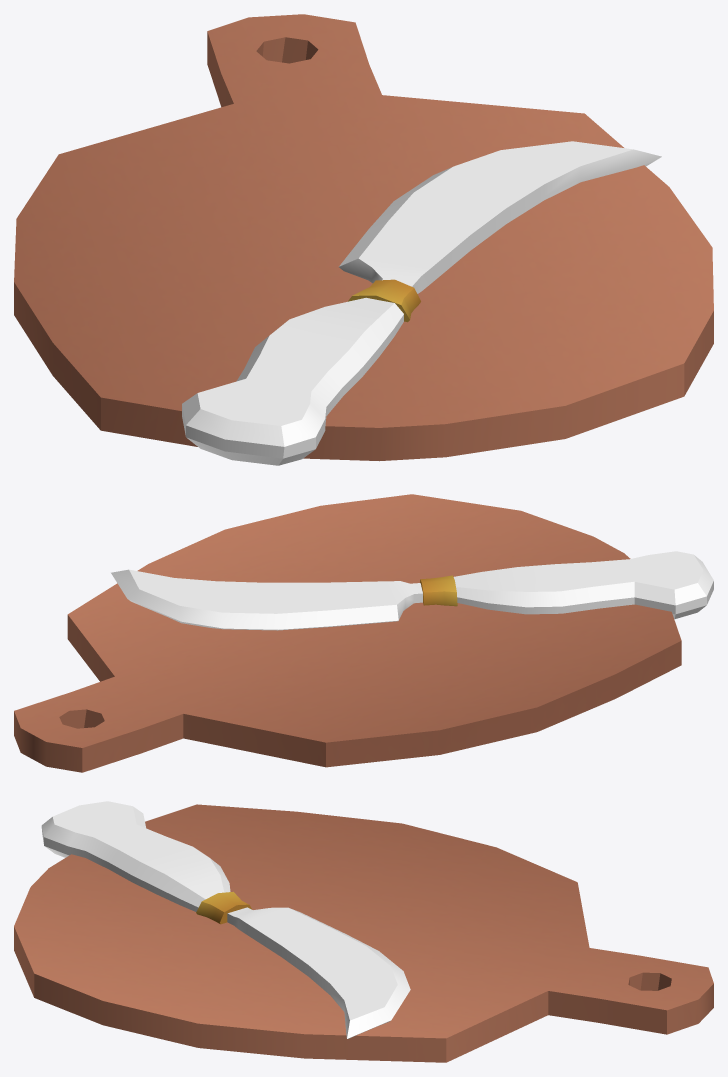
Rendered from TablaParaCortar.fbx.
3 renders of one model, top to bottom at view 1: azimuth 30°, elevation 25°; view 2: azimuth 150°, elevation 25°; view 3: azimuth 270°, elevation 25°, orthographic. The views are drawn at different scales.
Parts seen in each view (by area): view 1: Tabla_de_cortar, Mango, Hoja, Decoracion; view 2: Tabla_de_cortar, Hoja, Mango, Decoracion; view 3: Tabla_de_cortar, Mango, Hoja, Decoracion.
Part boxes in pixels (x1=…): Tabla_de_cortar: x1=14, y1=14, x2=713, y2=461; Mango: x1=182, y1=297, x2=403, y2=465; Hoja: x1=339, y1=141, x2=661, y2=293; Decoracion: x1=348, y1=279, x2=420, y2=322; Tabla_de_cortar: x1=14, y1=494, x2=681, y2=772; Hoja: x1=111, y1=569, x2=422, y2=630; Mango: x1=453, y1=551, x2=713, y2=619; Decoracion: x1=420, y1=575, x2=457, y2=606; Tabla_de_cortar: x1=14, y1=804, x2=713, y2=1062; Mango: x1=41, y1=801, x2=230, y2=911; Hoja: x1=227, y1=907, x2=410, y2=1038; Decoracion: x1=196, y1=891, x2=252, y2=924.
Size of the model in its own units: 1.34 by 0.1095 by 1.67.
